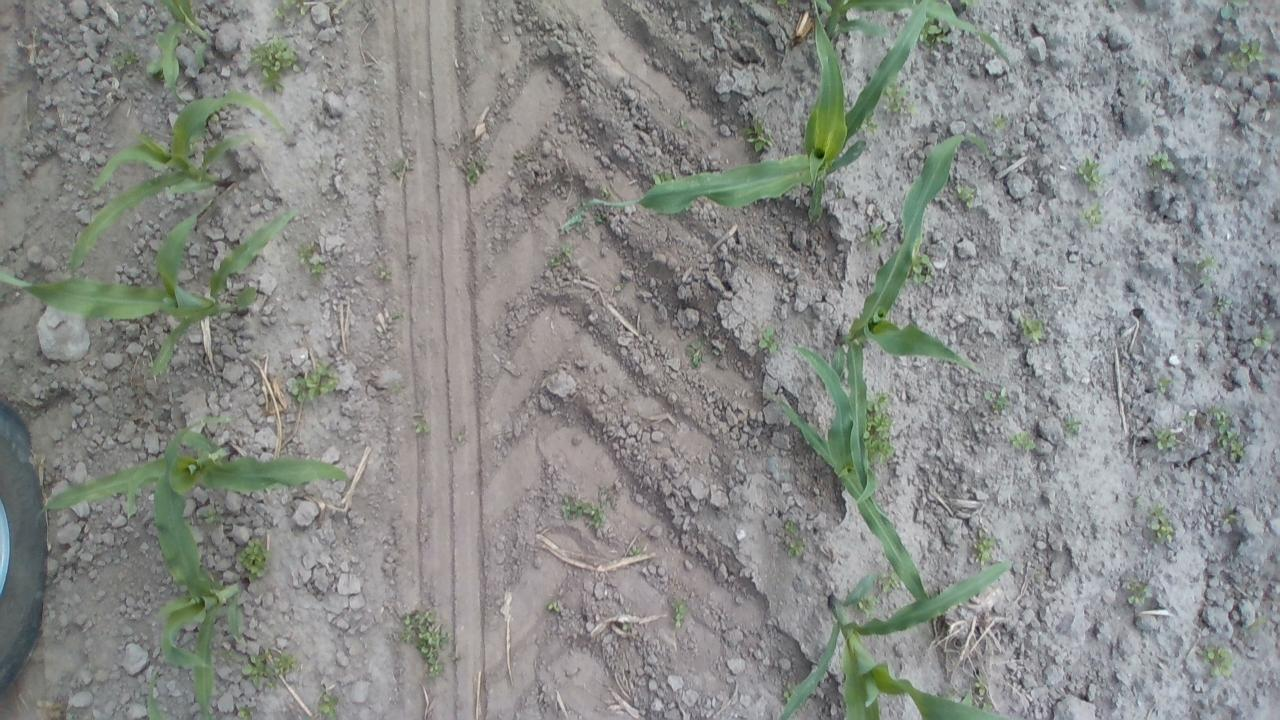Maize: (568, 6, 932, 224), (840, 137, 986, 508), (2, 204, 295, 378), (776, 344, 932, 600), (66, 94, 286, 272), (778, 554, 1011, 720), (34, 414, 350, 524), (156, 416, 247, 720), (814, 0, 1010, 67), (148, 0, 215, 106), (146, 666, 164, 720)
Weeds: (404, 610, 452, 679), (251, 34, 306, 94), (238, 647, 301, 692), (862, 391, 898, 466), (287, 356, 342, 401), (1212, 408, 1246, 461), (238, 534, 274, 582), (560, 494, 606, 528), (881, 74, 917, 112), (294, 238, 326, 278), (1146, 503, 1176, 544), (1228, 40, 1266, 72), (740, 119, 776, 152), (918, 14, 952, 48), (1076, 157, 1106, 193), (144, 31, 166, 80), (1202, 646, 1234, 679), (909, 253, 938, 286), (1076, 200, 1104, 233), (560, 212, 603, 232), (1124, 578, 1154, 606), (110, 46, 140, 74), (1018, 312, 1043, 344), (960, 692, 993, 714), (970, 535, 994, 564), (986, 386, 1010, 415), (832, 343, 848, 384), (272, 0, 306, 19), (318, 690, 339, 720), (1252, 326, 1276, 352), (864, 223, 888, 249), (1006, 430, 1036, 450), (548, 245, 575, 267), (466, 159, 486, 186), (1220, 0, 1248, 19), (856, 592, 878, 616), (759, 328, 781, 352), (1151, 151, 1177, 171), (879, 570, 902, 592), (956, 184, 978, 207), (648, 170, 676, 188), (671, 599, 690, 625), (202, 507, 227, 526), (1155, 429, 1177, 450), (687, 342, 704, 369), (862, 114, 881, 136), (1214, 297, 1236, 315), (1195, 255, 1216, 273), (390, 159, 412, 175), (1248, 613, 1266, 632), (782, 682, 796, 705), (786, 538, 802, 557), (1064, 420, 1083, 436), (238, 703, 255, 720), (974, 676, 988, 696), (991, 115, 1009, 130), (188, 134, 204, 150), (1158, 378, 1174, 394), (136, 128, 154, 142), (785, 518, 800, 534), (598, 185, 614, 200), (956, 0, 982, 9), (415, 418, 430, 433), (546, 600, 560, 614), (1224, 512, 1238, 526), (1182, 412, 1194, 426), (390, 380, 402, 393), (222, 648, 236, 658), (208, 110, 220, 121), (628, 546, 640, 556), (776, 0, 788, 10), (835, 190, 844, 198), (1203, 276, 1211, 284)
